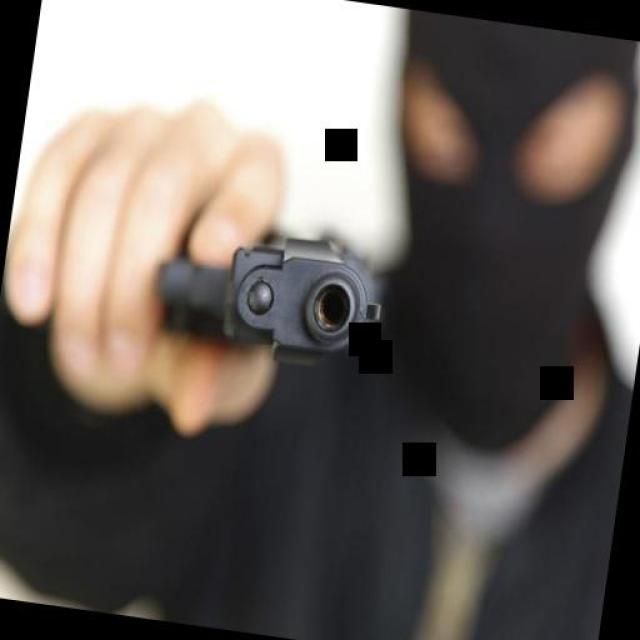gun: (141, 199, 401, 389)
